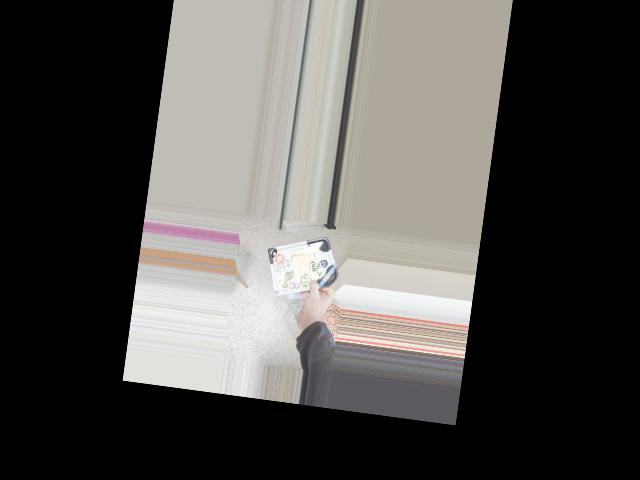cheese: (268, 237, 337, 292)
